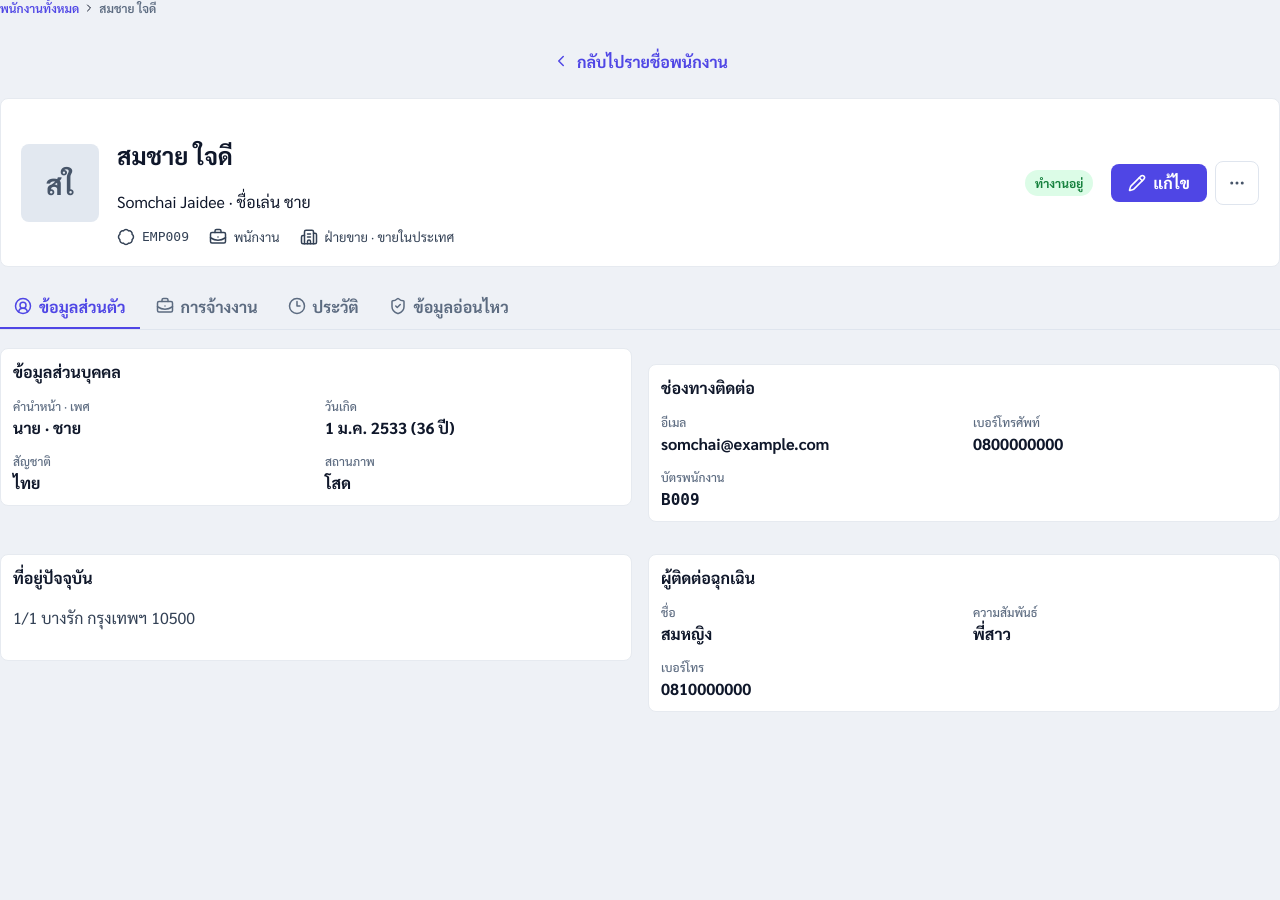
Test: EmployeeDetailPage — ตั้งรหัสผ่านชั่วคราว (issue #744) › copies the password to the clipboard
This screenshot has width=1280, height=900.
Click the button named "การดำเนินการเพิ่มเติม": (1237, 183) [1215,161,1259,205]
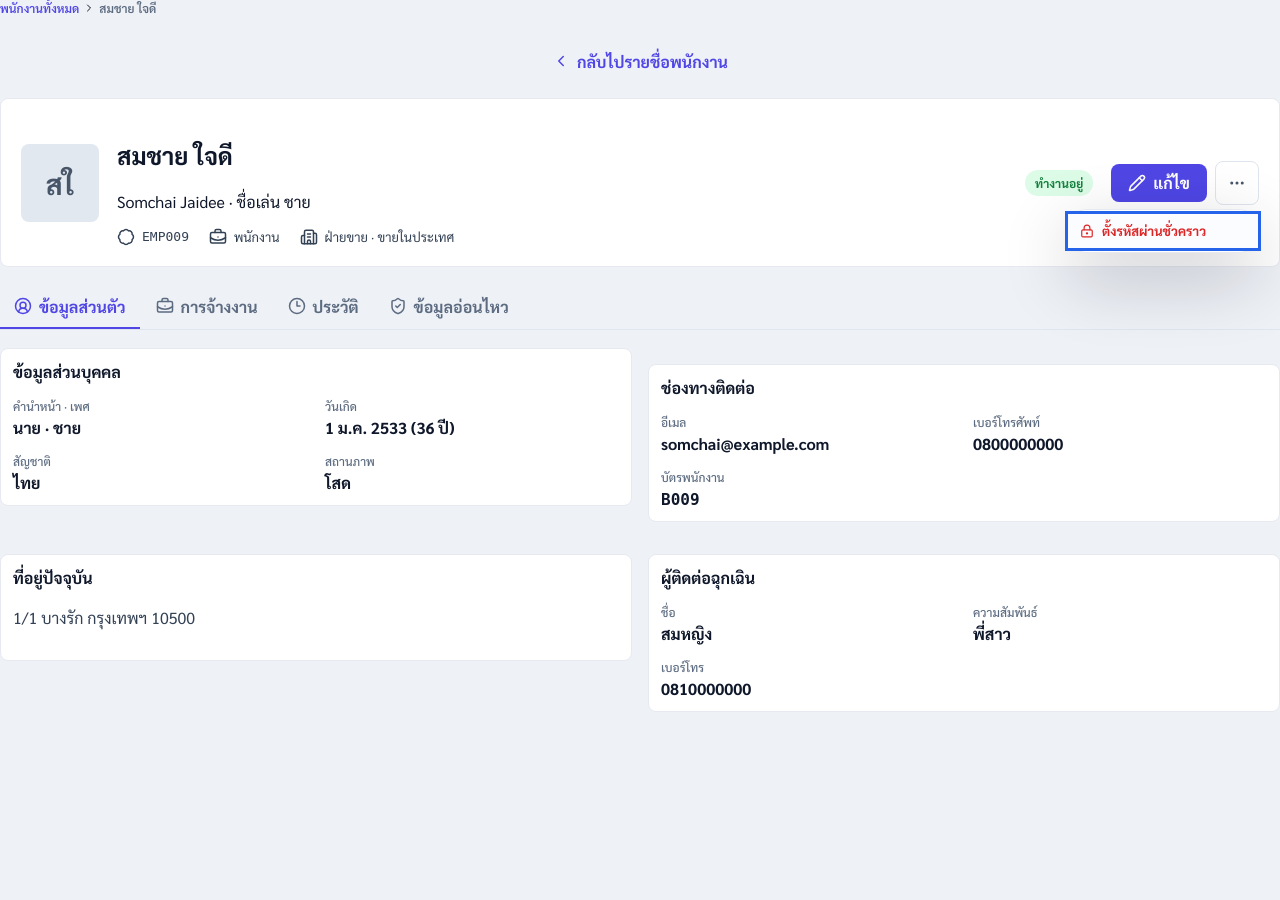
Click the menu item "ตั้งรหัสผ่านชั่วคราว": (1163, 231) [1068,214,1258,248]
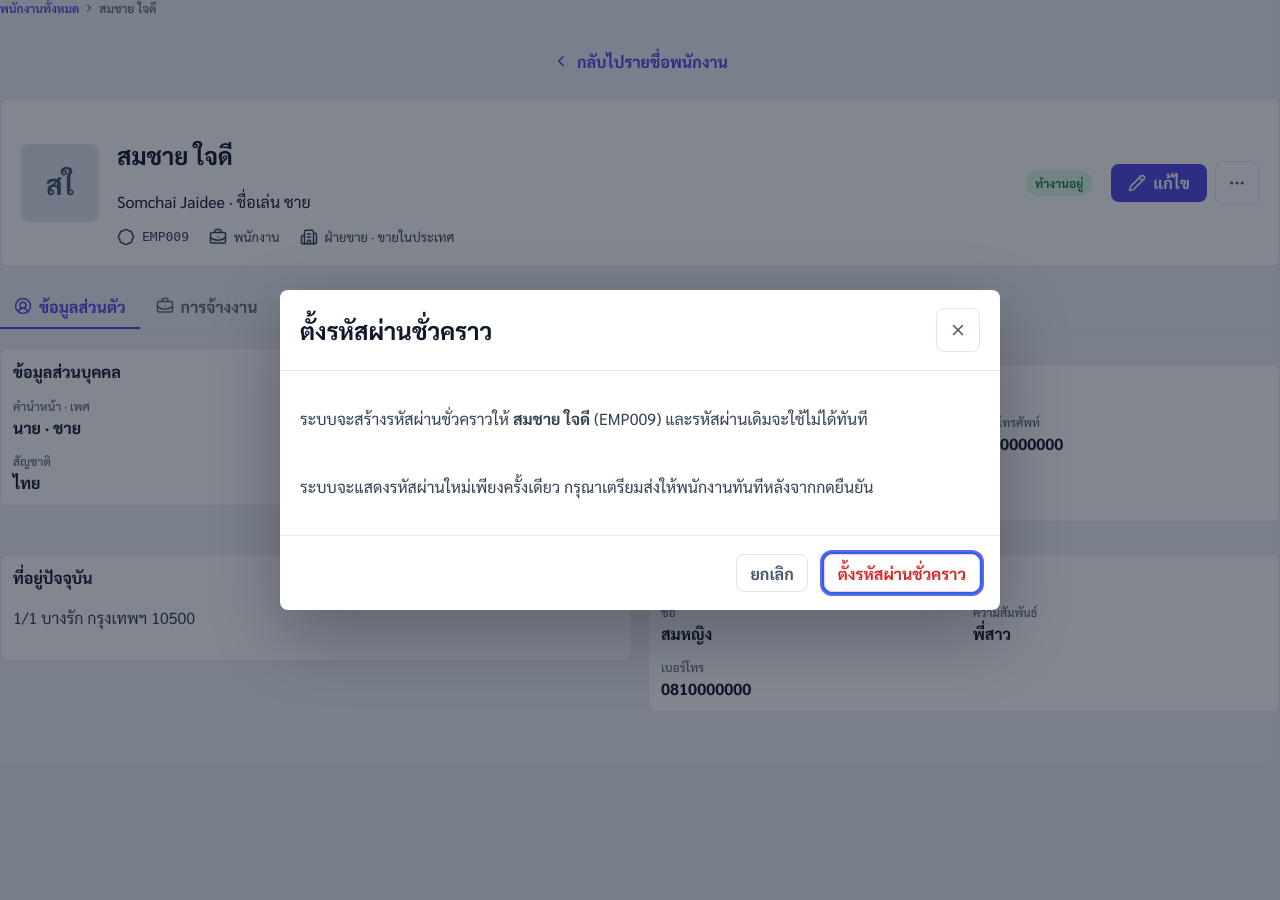
Click the button "ตั้งรหัสผ่านชั่วคราว": (902, 573) [824,554,980,592]
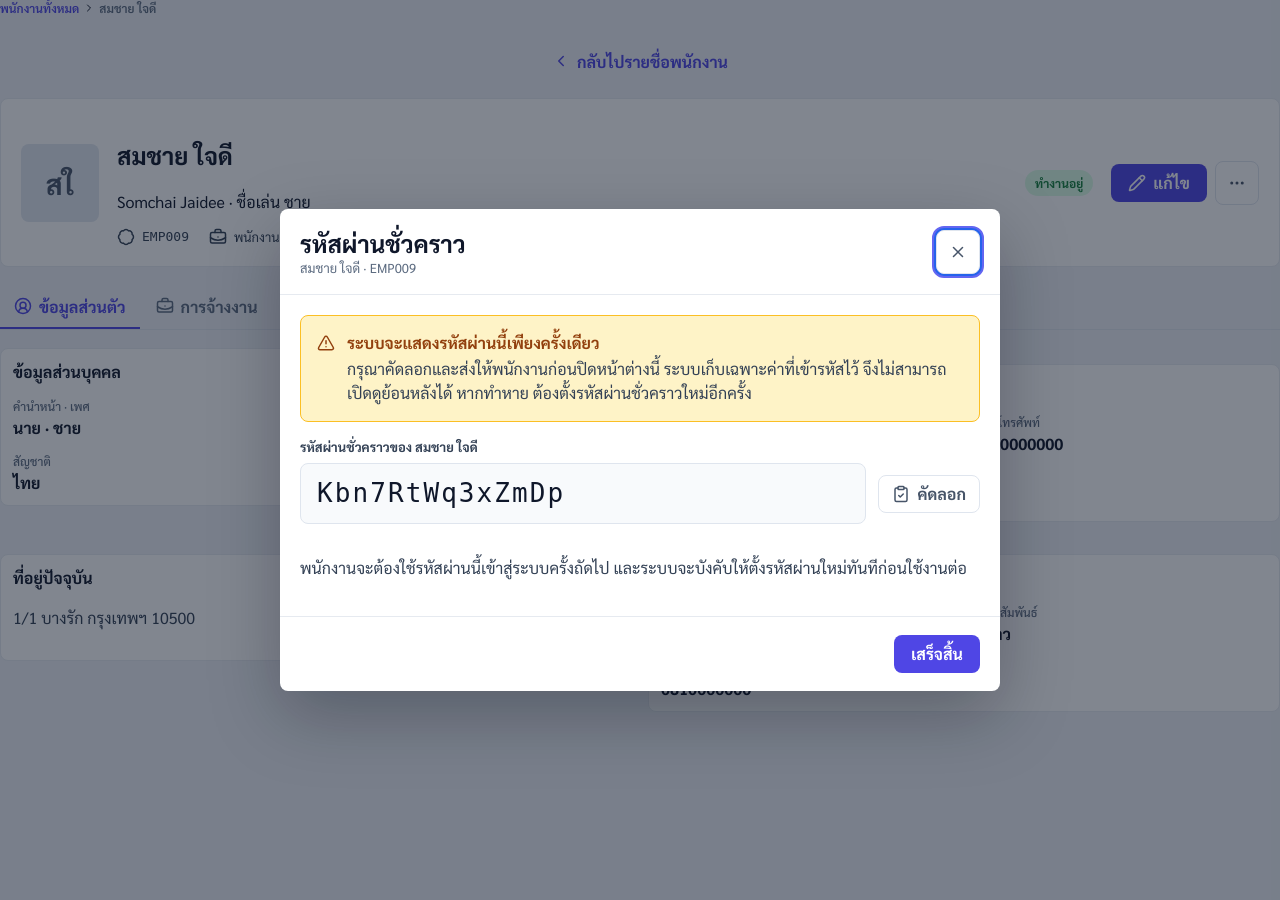
Expected: the text "Kbn7RtWq3xZmDp" is shown, [300,463,866,524]
Click the button "คัดลอก": (929, 494) [878,474,980,512]
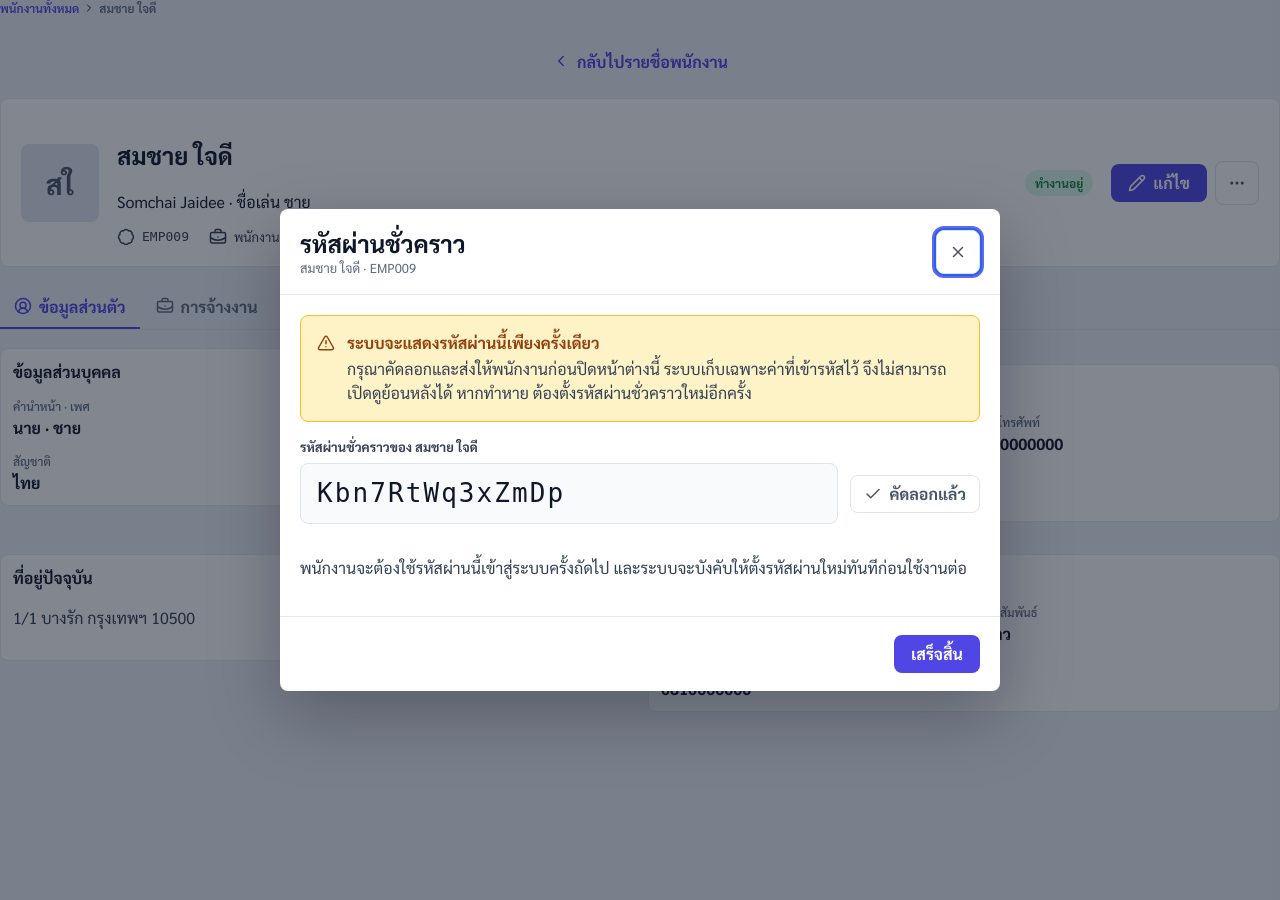
Expected: the button "คัดลอกแล้ว" is shown, [850,474,980,512]
